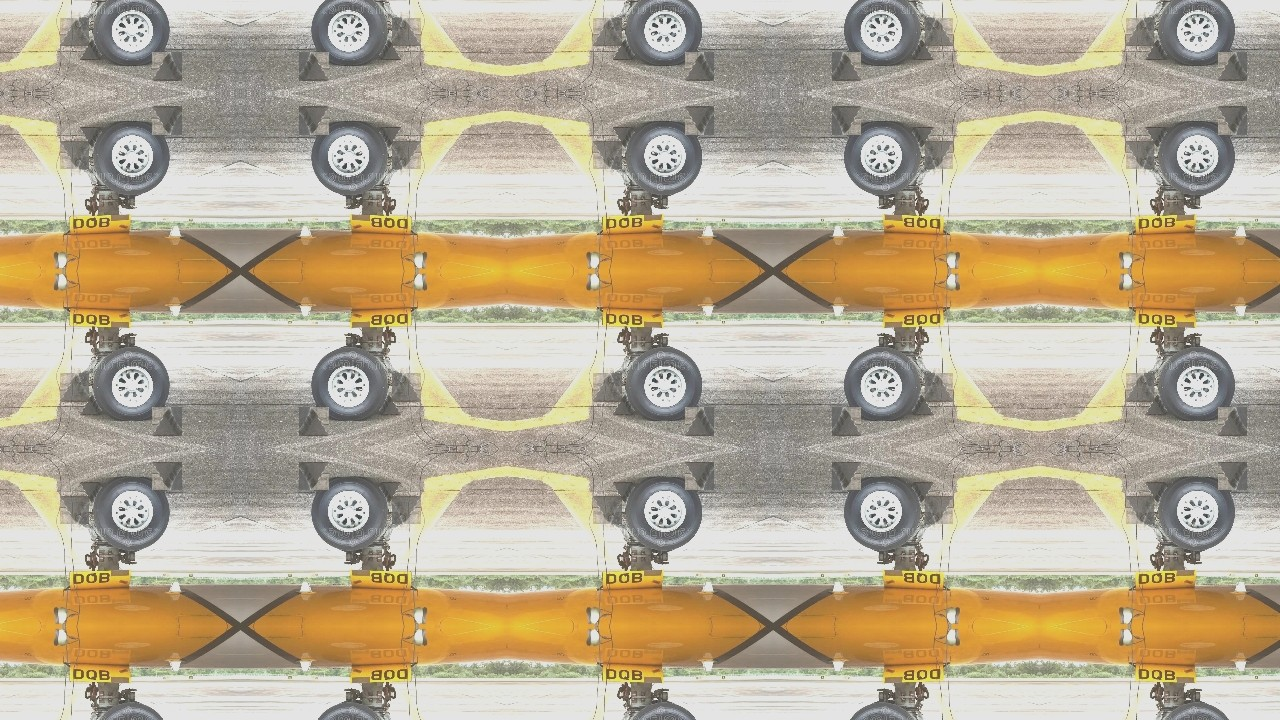chock: (832, 51, 862, 80), (1218, 51, 1248, 80), (832, 106, 862, 135), (1218, 106, 1248, 135), (832, 407, 862, 436), (1218, 407, 1248, 436), (832, 462, 862, 491), (1218, 462, 1248, 491), (152, 51, 181, 80), (299, 51, 328, 80), (685, 51, 714, 80), (593, 17, 622, 46), (925, 17, 954, 46), (1126, 17, 1155, 46), (152, 106, 181, 135), (299, 106, 328, 135), (685, 106, 714, 135), (593, 140, 622, 169), (925, 140, 954, 169), (1126, 140, 1155, 169), (152, 407, 181, 436), (299, 407, 328, 436), (685, 407, 714, 436), (593, 373, 622, 402), (925, 373, 954, 402), (1126, 373, 1155, 402), (152, 462, 181, 491), (299, 462, 328, 491), (685, 462, 714, 491), (593, 496, 622, 525), (925, 496, 954, 525), (1126, 496, 1155, 525), (60, 17, 88, 46), (392, 17, 420, 46), (60, 140, 88, 169), (392, 140, 420, 169), (60, 373, 88, 402), (392, 373, 420, 402), (60, 496, 88, 525), (392, 496, 420, 525), (79, 38, 101, 59), (379, 38, 401, 59), (613, 38, 635, 59), (912, 38, 934, 59), (1146, 38, 1168, 59), (79, 127, 101, 148), (379, 127, 401, 148), (613, 127, 635, 148), (912, 127, 934, 148), (1146, 127, 1168, 148), (79, 394, 101, 415), (379, 394, 401, 415), (613, 394, 635, 415), (912, 394, 934, 415), (1146, 394, 1168, 415), (79, 483, 101, 504), (379, 483, 401, 504), (613, 483, 635, 504), (912, 483, 934, 504), (1146, 483, 1168, 504)
wheel: (90, 122, 168, 196), (312, 122, 390, 196), (845, 122, 923, 196), (1157, 122, 1235, 196), (90, 346, 168, 420), (312, 346, 390, 420), (845, 346, 923, 420), (1157, 346, 1235, 420), (90, 478, 168, 552), (312, 478, 390, 552), (845, 478, 923, 552), (1157, 478, 1235, 552), (624, 122, 701, 196), (624, 346, 701, 420), (624, 478, 701, 552), (90, 0, 168, 64), (312, 0, 390, 64), (845, 0, 923, 64), (1157, 0, 1235, 64), (624, 0, 701, 64), (90, 702, 168, 720), (312, 702, 390, 720), (845, 702, 923, 720), (1157, 702, 1235, 720), (624, 702, 701, 720)
